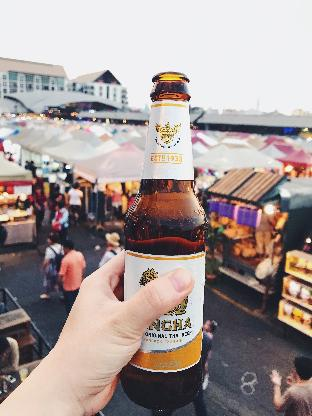Glass Bottle: (121, 70, 209, 410)
